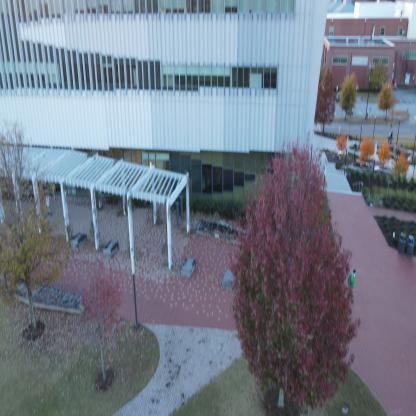Hunt Library: (0, 0, 332, 280)
